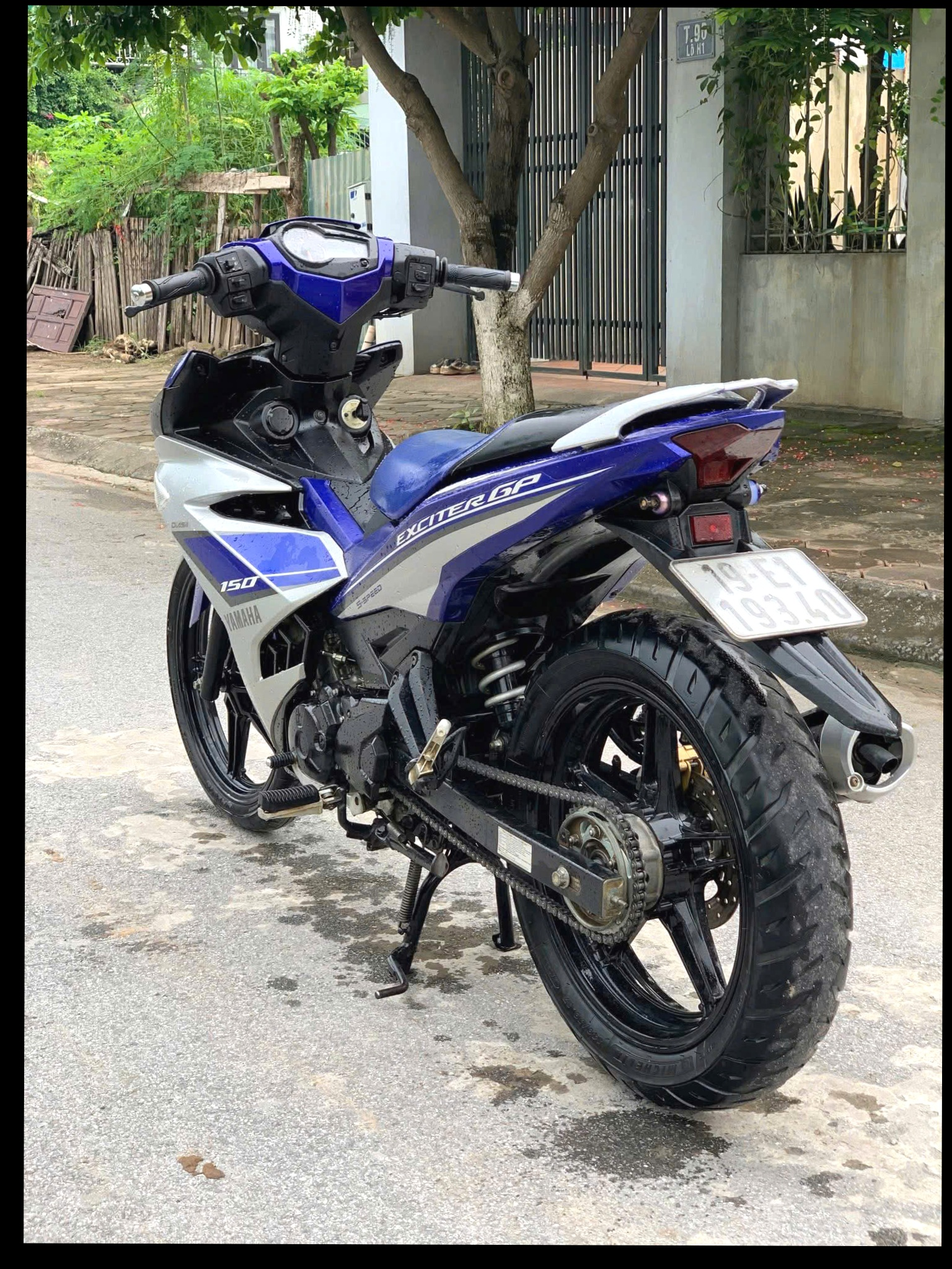Bien-so: (689, 574, 905, 682)
